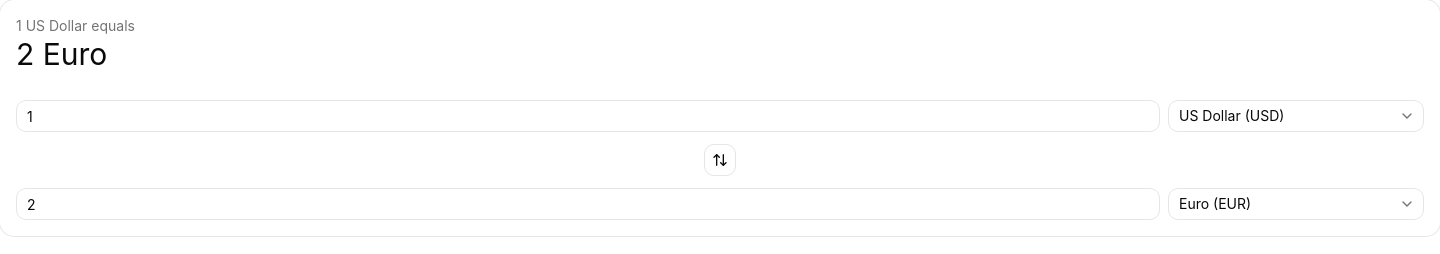
CurrencyConverter › swaps currencies
The width and height of the screenshot is (1440, 254).
What coordinates should you click on to do the following:
click the button named "Swap currencies"
I would click on:
 (720, 160)
Its box is left=704, top=144, right=736, bottom=176.
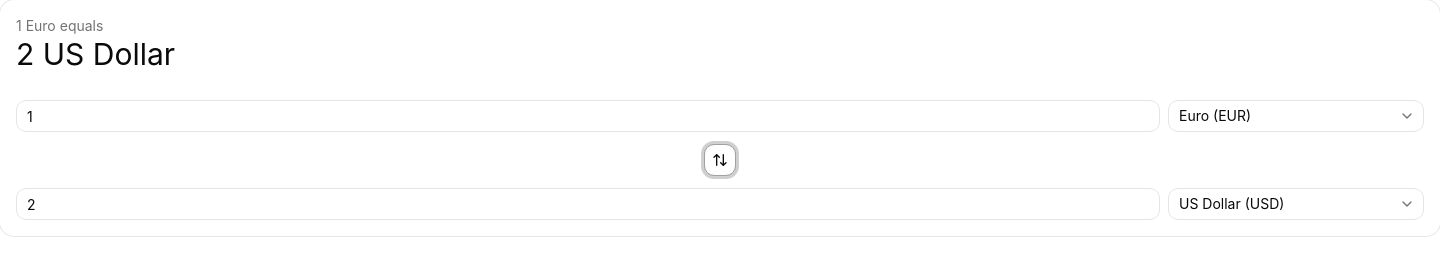
Expected: the dropdown named "From currency" shows "Eur", left=1168, top=100, right=1424, bottom=132
Expected: the dropdown named "To currency" shows "USD", left=1168, top=188, right=1424, bottom=220
